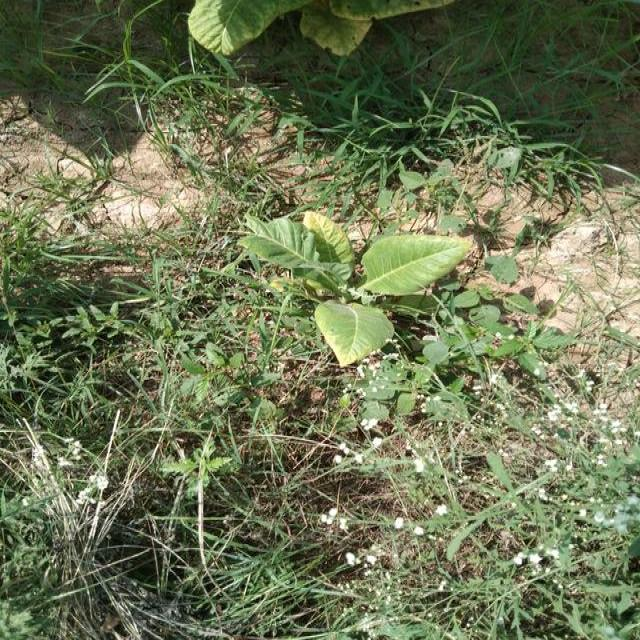crop: (249, 212, 466, 349), (192, 0, 445, 65)
